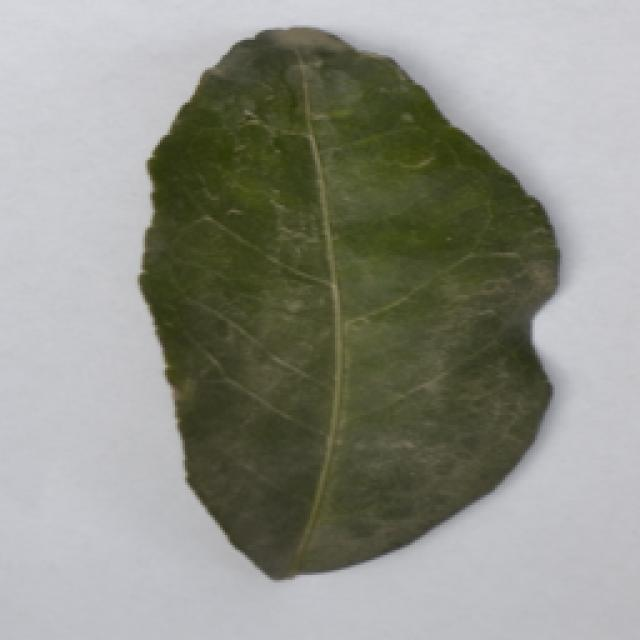healthy: (127, 22, 565, 592)
